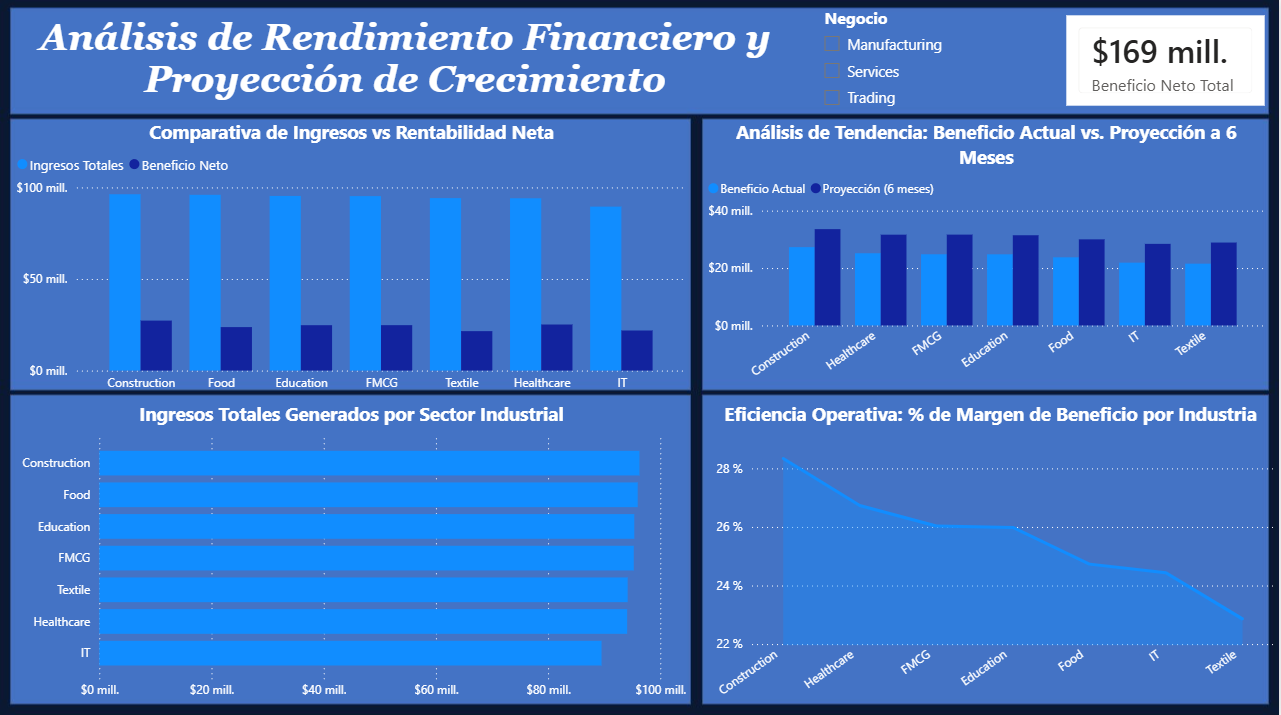

The page's visual inventory and layout, read from the dashboard file:
{"tool":"powerbi","page":{"name":"Página 1","canvas":[1280,720],"ordinal":0},"visuals":[{"type":"clusteredBarChart","title":"Ingresos Totales Generados por Sector Industrial","fields":{"Category":["Dim_Industria1.industry"],"Y":["Sum(Tabla_Principal.monthly_revenue)"]},"box":[12.5,402.5,680,307.5],"z":0},{"type":"clusteredColumnChart","title":"Comparativa de Ingresos vs Rentabilidad Neta","fields":{"Category":["Dim_Industria1.industry"],"Y":["Sum(Tabla_Principal.monthly_revenue)","Sum(Tabla_Principal.monthly_profit)"]},"box":[12.5,121.2,680,281.2],"z":1000},{"type":"slicer","fields":{"Values":["Dim_Tipo_Negocio2.business_type"]},"box":[812.5,3.8,250,117.5],"z":2000},{"type":"areaChart","title":"Eficiencia Operativa: % de Margen de Beneficio por Industria","fields":{"Y":["Tabla_Principal.Margen%"],"Category":["Dim_Industria1.industry"]},"box":[704.3,402.5,575.5,317.8],"z":3000},{"type":"cardVisual","title":"Beneficio Neto Tota","fields":{"Data":["Sum(Tabla_Principal.monthly_profit)"]},"box":[1062.5,12.5,208.8,100],"z":4000},{"type":"clusteredColumnChart","title":"Análisis de Tendencia: Beneficio Actual vs. Proyección a 6 Meses","fields":{"Category":["Dim_Industria1.industry"],"Y":["Sum(Tabla_Principal.monthly_profit)","Sum(Tabla_Principal.future_6_month_profit)"]},"box":[704.3,121.5,566.9,272.4],"z":5000},{"type":"textbox","box":[0,12.5,812.5,100],"z":6000}]}

Visuals, with their boxes in screenshot pixels (x1, y1, x2, y2), scaled from the page's 1280x720 canvas onto the 1281x715 screenshot:
"Ingresos Totales Generados por Sector Industrial" clusteredBarChart: BBox(13, 400, 693, 705)
"Comparativa de Ingresos vs Rentabilidad Neta" clusteredColumnChart: BBox(13, 120, 693, 400)
slicer - Dim_Tipo_Negocio2.business_type: BBox(813, 4, 1063, 120)
"Eficiencia Operativa: % de Margen de Beneficio por Industria" areaChart: BBox(705, 400, 1280, 714)
"Beneficio Neto Tota" cardVisual: BBox(1063, 12, 1272, 112)
"Análisis de Tendencia: Beneficio Actual vs. Proyección a 6 Meses" clusteredColumnChart: BBox(705, 121, 1272, 391)
textbox: BBox(0, 12, 813, 112)
